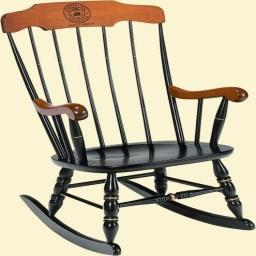Chair: (0, 3, 256, 256)
